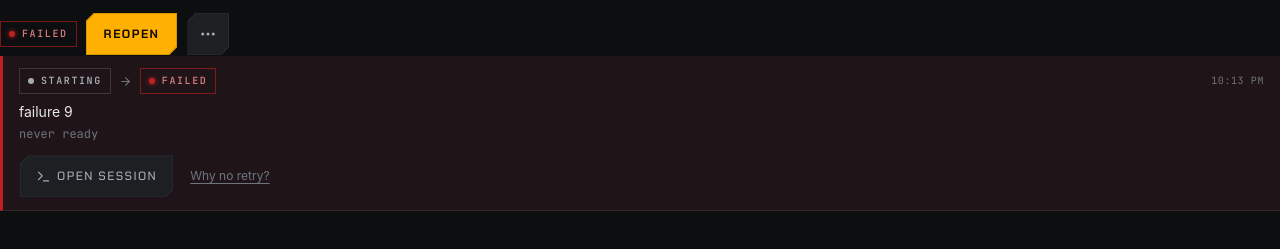
it: the detail decides: a snapshot saying eligible does not offer Start again
The width and height of the screenshot is (1280, 249).
Expected: the button with test id "mission-reopen" is shown, [85,12,178,56]
Expected: the link with test id "thread-open-session" reads "Open session", [36,168,157,184]
Click the button "Why no retry?" at (230, 176), box [182,154,278,198]
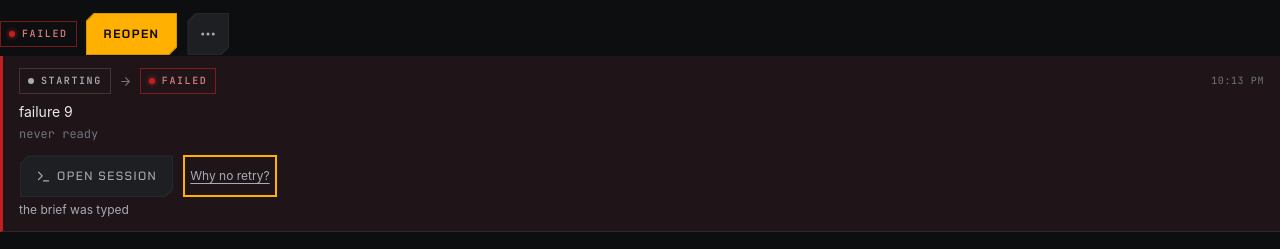
Expected: the button "Why no retry?" is expanded, [182,154,278,198]
Expected: the text with test id "thread-retry-reason" reads "the brief was typed", [19,202,129,217]
